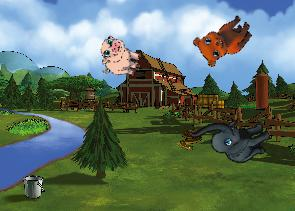bear: (188, 3, 257, 73)
elephant: (188, 97, 276, 180)
pig: (95, 33, 145, 81)
